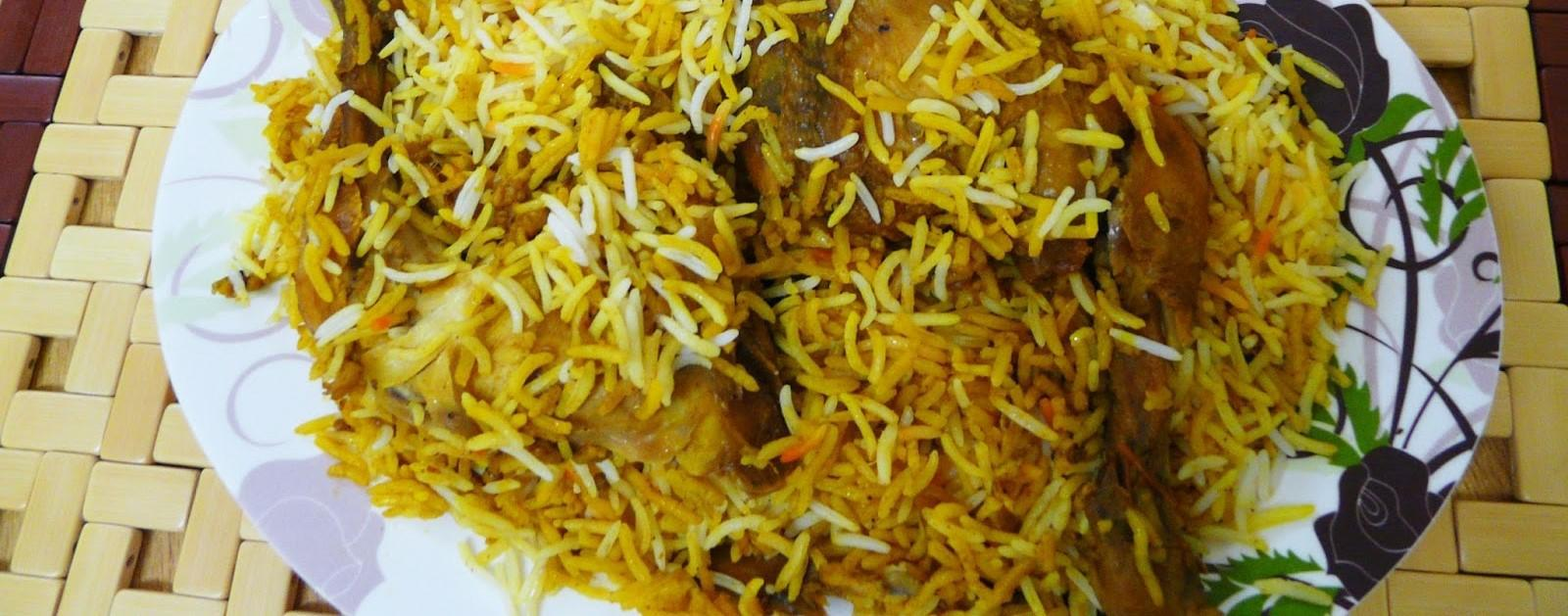Biryani: (213, 0, 1385, 616)
